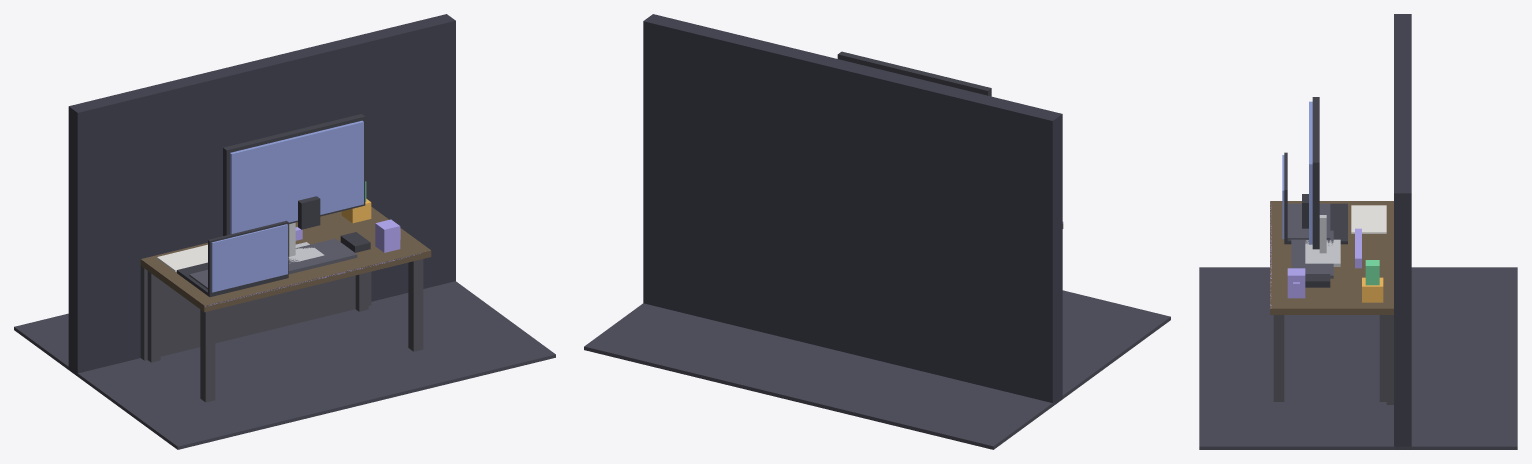
File: desk.glb
3 views of the same model, side by side, from view 1: azimuth 30°, elevation 25°; view 2: azimuth 150°, elevation 25°; view 3: azimuth 270°, elevation 25° (orthographic). The views are drawn at different scales.
Parts seen in each view (by area): view 1: Node157, Node155, Node55, Node31, Node5, Node79, Node161, Node160, Node1, Node151, Node49, Node13 (+8 smaller); view 2: Node159, Node155, Node161, Node160, Node153, Node51, Node154, Node53; view 3: Node155, Node5, Node158, Node161, Node152, Node14, Node125, Node2, Node89, Node71, Node32, Node41 (+7 smaller).
Boxes of the visible parts, left/top/right/bottom form: Node157: left=77, top=20, right=455, bottom=373; Node155: left=14, top=281, right=555, bottom=446; Node55: left=231, top=122, right=363, bottom=233; Node31: left=144, top=268, right=371, bottom=360; Node5: left=141, top=207, right=430, bottom=305; Node79: left=212, top=225, right=287, bottom=292; Node161: left=69, top=14, right=455, bottom=112; Node160: left=68, top=106, right=77, bottom=376; Node1: left=204, top=250, right=431, bottom=312; Node151: left=177, top=354, right=555, bottom=449; Node49: left=226, top=116, right=365, bottom=235; Node13: left=413, top=259, right=423, bottom=351; Node159: left=643, top=21, right=1052, bottom=402; Node155: left=584, top=290, right=1170, bottom=446; Node161: left=643, top=14, right=1061, bottom=120; Node160: left=1052, top=114, right=1062, bottom=406; Node153: left=584, top=346, right=993, bottom=449; Node51: left=837, top=54, right=987, bottom=95; Node154: left=993, top=317, right=1170, bottom=449; Node53: left=838, top=51, right=991, bottom=90; Node155: left=1199, top=267, right=1517, bottom=446; Node5: left=1270, top=201, right=1393, bottom=308; Node158: left=1394, top=193, right=1411, bottom=449; Node161: left=1394, top=14, right=1411, bottom=193; Node152: left=1199, top=446, right=1517, bottom=449; Node14: left=1273, top=315, right=1284, bottom=401; Node125: left=1351, top=205, right=1386, bottom=232; Node2: left=1270, top=308, right=1393, bottom=314; Node89: left=1291, top=230, right=1333, bottom=275; Node71: left=1287, top=203, right=1330, bottom=237; Node32: left=1386, top=315, right=1393, bottom=404; Node41: left=1305, top=239, right=1340, bottom=263.
Size of the model in its own units: 120 by 80 by 90.
